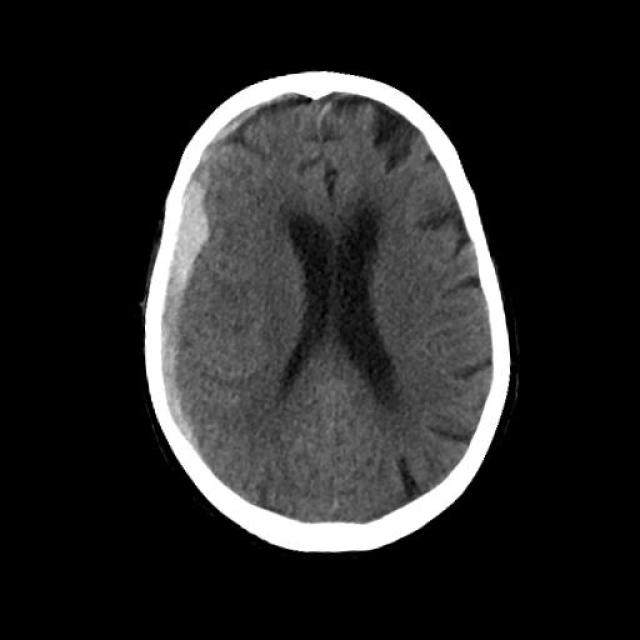Subdural: (95, 71, 314, 492)
